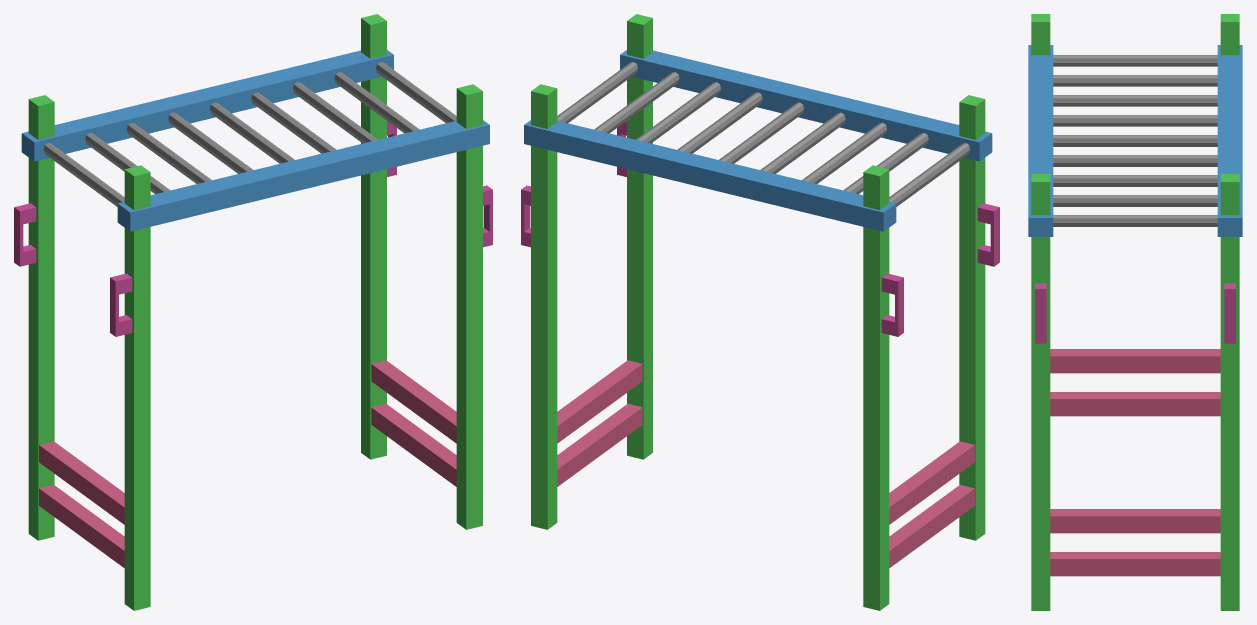
The model's file is Monkey Bars.fbx.
The picture shows the model from 3 angles, left to right: view 1: azimuth 30°, elevation 25°; view 2: azimuth 150°, elevation 25°; view 3: azimuth 270°, elevation 25°; orthographic projection.
Parts seen in each view (by area): view 1: Cube.008; view 2: Cube.008; view 3: Cube.008.
Part boxes in pixels (x1=…): Cube.008: x1=14, y1=14, x2=492, y2=610; Cube.008: x1=521, y1=14, x2=999, y2=610; Cube.008: x1=1028, y1=14, x2=1242, y2=610.
Size of the model in its own units: 908 by 1000 by 453.
